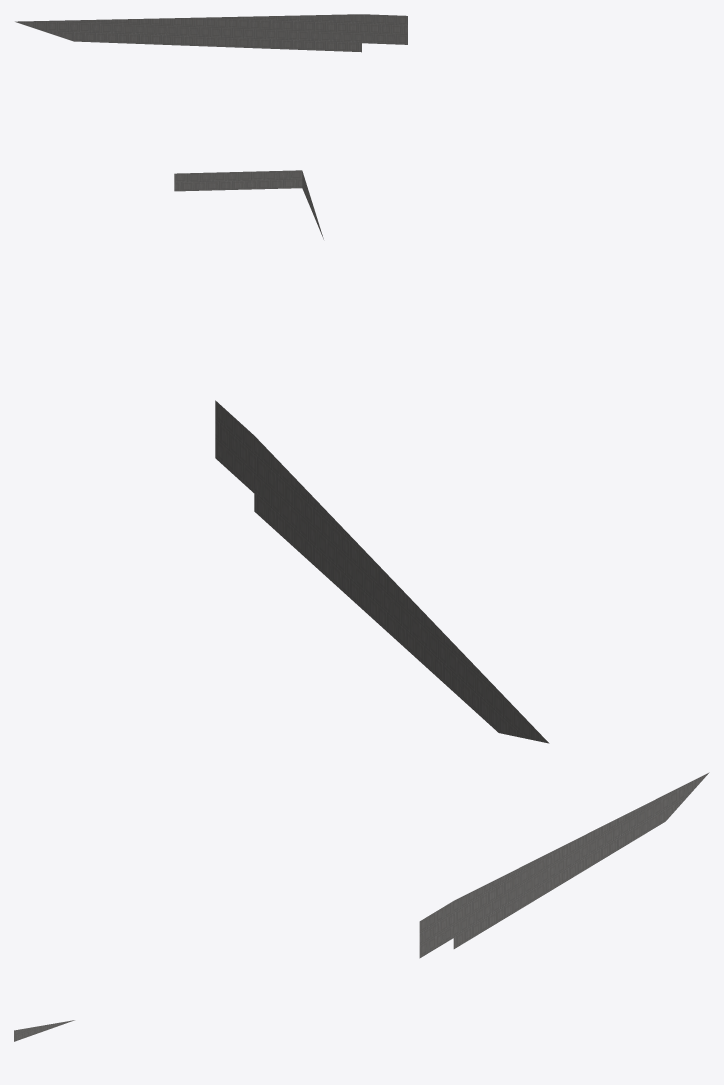
File: kd_stage_135ebf_2_6.glb
3 renders of one model, top to bottom at view 1: azimuth 30°, elevation 25°; view 2: azimuth 150°, elevation 25°; view 3: azimuth 270°, elevation 25°, orthographic. The views are drawn at different scales.
Parts seen in each view (by area): view 1: kd_stage_135ebf_2_6; view 2: kd_stage_135ebf_2_6; view 3: kd_stage_135ebf_2_6.
Boxes of the visible parts, box(x1,y1,x2,y2) form: kd_stage_135ebf_2_6: box(15, 14, 407, 52); kd_stage_135ebf_2_6: box(174, 170, 549, 743); kd_stage_135ebf_2_6: box(14, 772, 709, 1041).
Size of the model in its own units: 41.36 by 3.4 by 44.08.
Materials: 1 (1 with a texture image).
